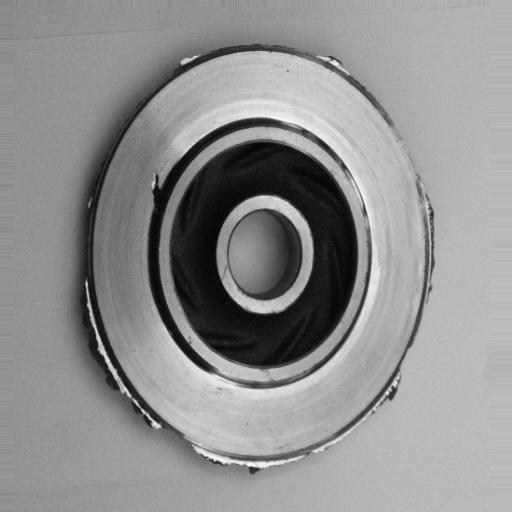casting_with_burr: (79, 43, 440, 475)
crack: (144, 166, 168, 218)
scratch: (349, 166, 379, 247)
